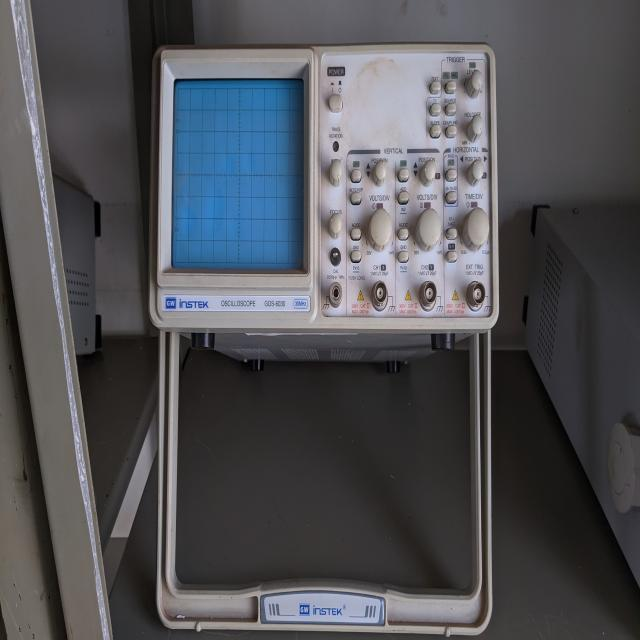Cathode Ray Oscilloscope: (143, 44, 511, 640)
